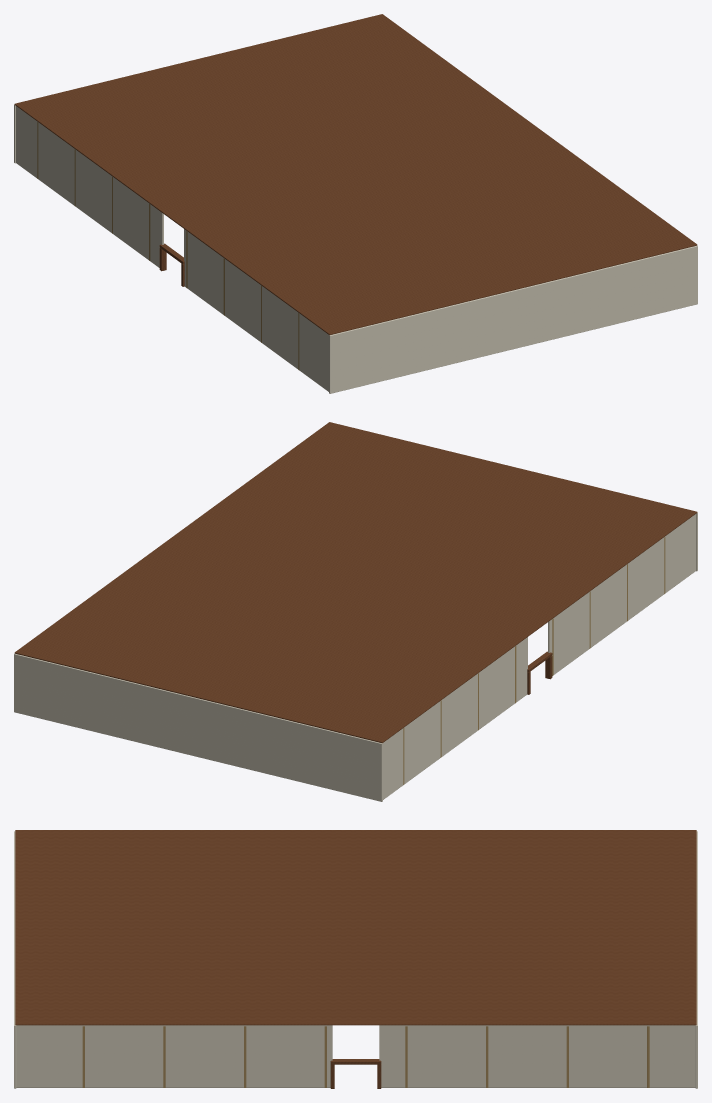
File: SOL_D11_directory_12_source001.glb
The picture shows the model from 3 angles, top to bottom: view 1: azimuth 30°, elevation 25°; view 2: azimuth 150°, elevation 25°; view 3: azimuth 270°, elevation 25°; orthographic projection. The views are drawn at different scales.
Parts seen in each view (by area): view 1: E_ceiling, E_outer_north, E_outer_west0, E_outer_west1; view 2: E_ceiling, E_outer_south, E_outer_west1, E_outer_west0; view 3: E_ceiling, E_outer_east0, E_outer_east1, E_outer_south, E_outer_north.
Boxes of the visible parts, left/top/right/bottom form: E_ceiling: left=14, top=14, right=697, bottom=335; E_outer_north: left=329, top=245, right=697, bottom=393; E_outer_west0: left=16, top=106, right=163, bottom=267; E_outer_west1: left=184, top=229, right=328, bottom=391; E_ceiling: left=14, top=422, right=697, bottom=743; E_outer_south: left=14, top=653, right=382, bottom=801; E_outer_west1: left=548, top=514, right=695, bottom=674; E_outer_west0: left=383, top=637, right=527, bottom=799; E_ceiling: left=15, top=830, right=696, bottom=1025; E_outer_east0: left=379, top=1025, right=695, bottom=1087; E_outer_east1: left=16, top=1025, right=332, bottom=1087; E_outer_south: left=695, top=831, right=697, bottom=1088; E_outer_north: left=14, top=831, right=16, bottom=1088.
Size of the model in its own units: 45.75 by 7.04 by 67.84.
Materials: 17 (17 with a texture image).
